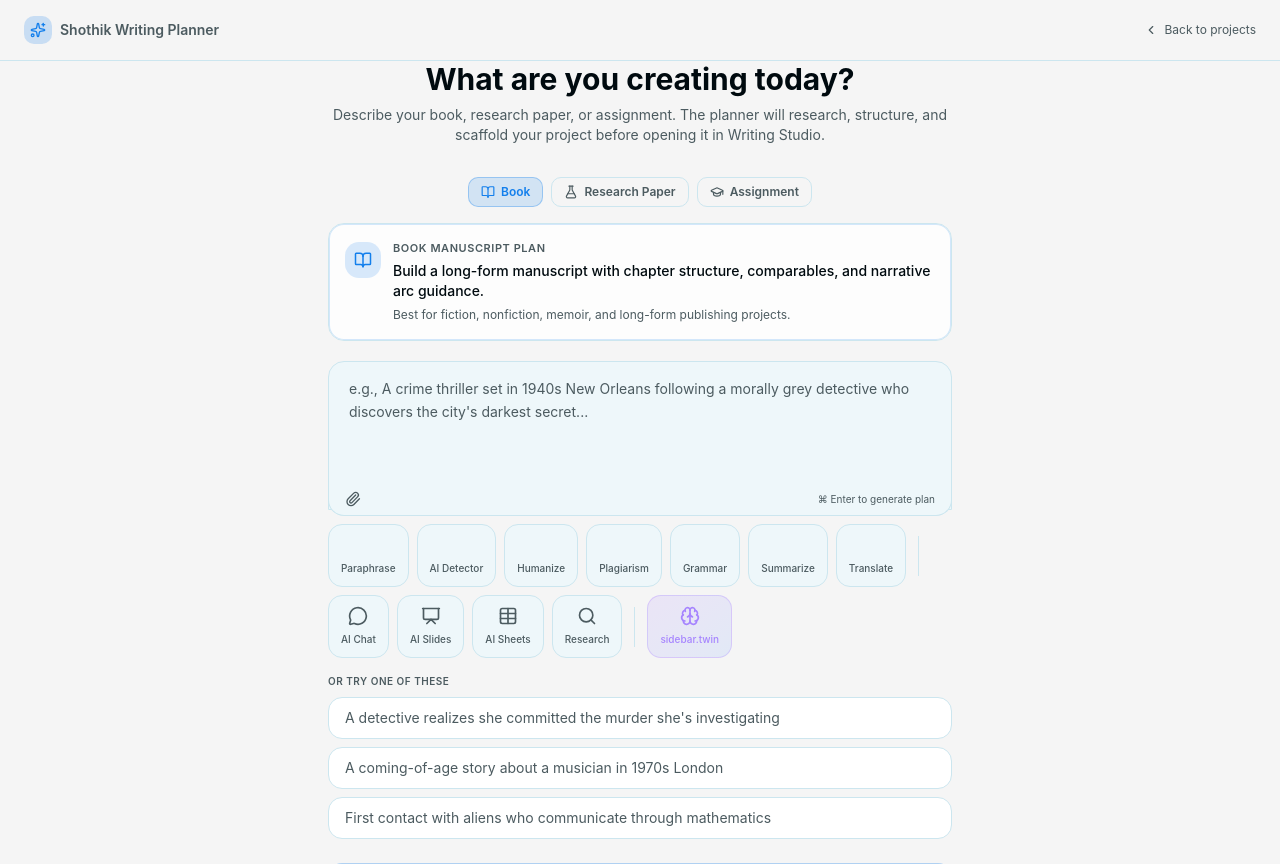
Scenario: BookAgentStart › shows research guidance when research paper mode is selected
The image size is (1280, 864).
expect the text "Book manuscript plan" is shown: met, box x1=393 y1=241 x2=546 y2=255
Click the button "Research Paper": (620, 192) x1=551 y1=177 x2=689 y2=207
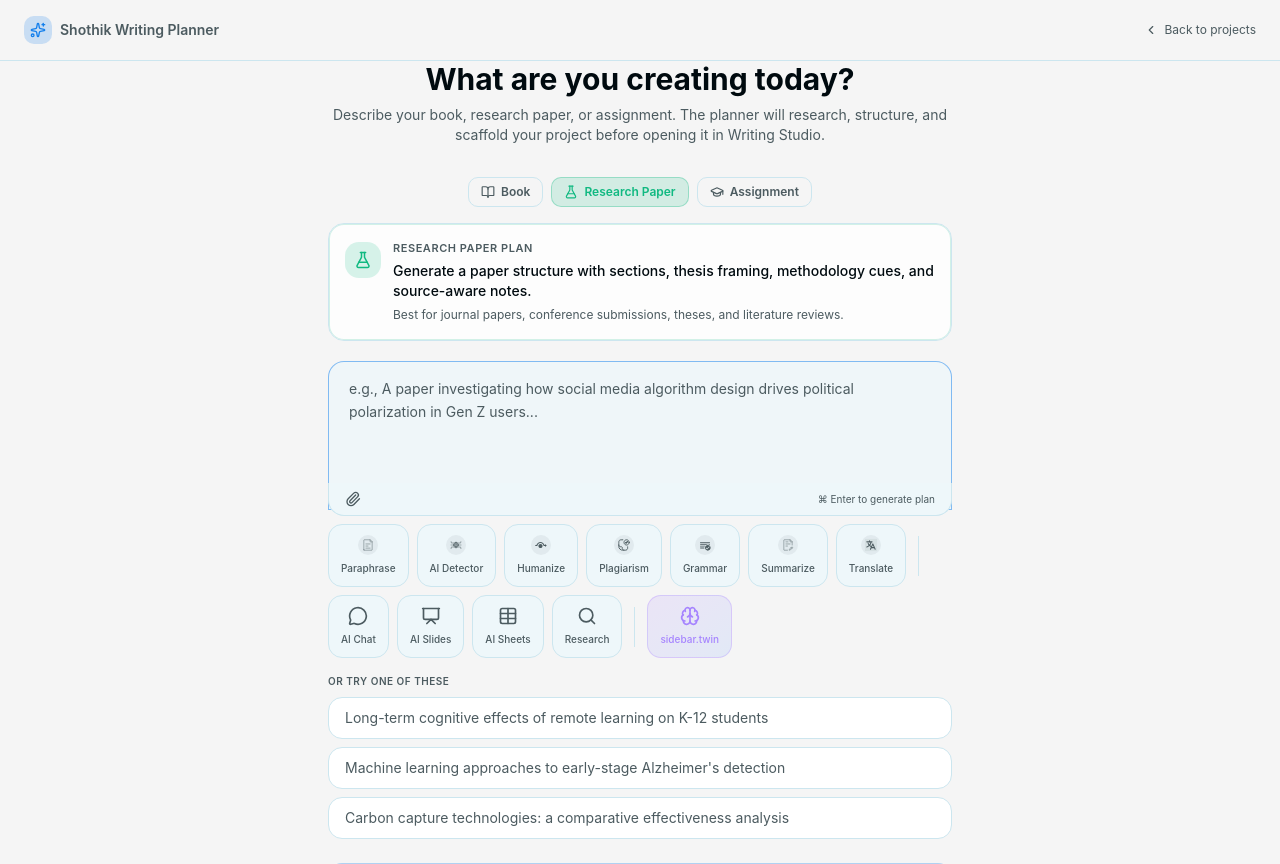
expect the text "Research paper plan" is shown: met, box x1=393 y1=241 x2=533 y2=255
expect the text "Generate a paper structure with sections, thesis framing, methodology cues, and source-aware notes." is shown: met, box x1=393 y1=262 x2=934 y2=298
expect the text "Best for journal papers, conference submissions, theses, and literature reviews." is shown: met, box x1=393 y1=306 x2=844 y2=322
